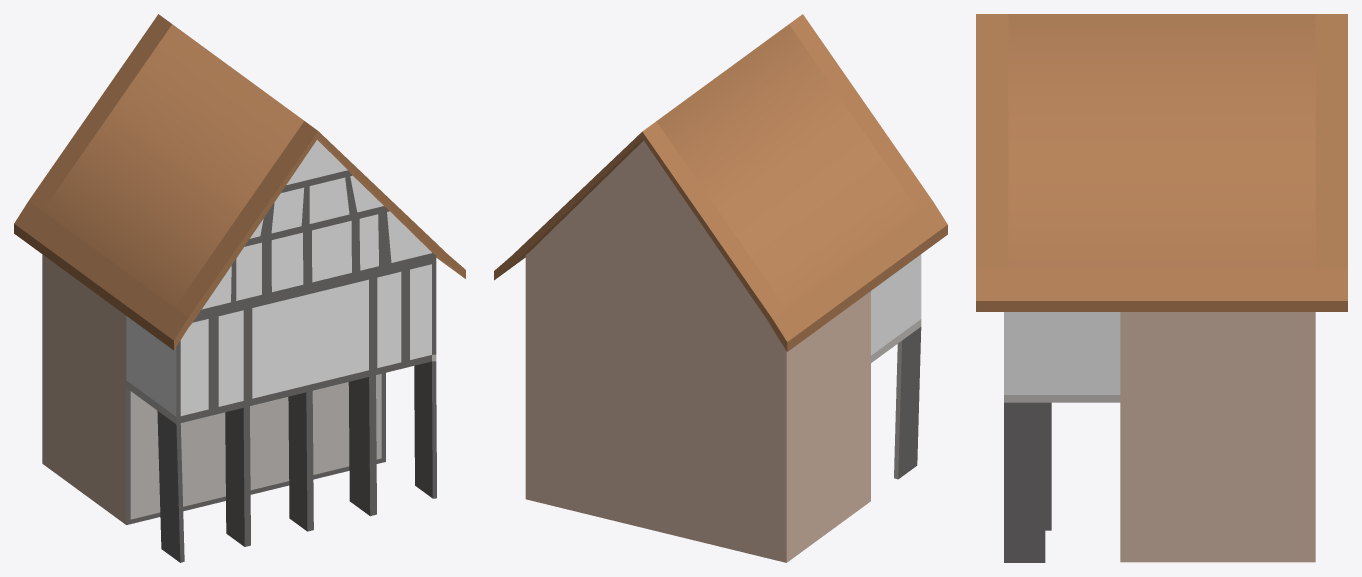
Rendered from house.FBX.
3 renders of one model, left to right at view 1: azimuth 30°, elevation 25°; view 2: azimuth 150°, elevation 25°; view 3: azimuth 270°, elevation 25°, orthographic. The views are drawn at different scales.
Visible parts, largest first — view 1: Box001; view 2: Box001; view 3: Box001.
Part boxes in pixels (x1,y1,x2,y2): Box001: [14, 14, 465, 562]; Box001: [494, 14, 947, 562]; Box001: [976, 14, 1347, 562].
Bounding box in the file's own units: 67.63 × 90.79 × 64.17.
Materials: 1 (1 with a texture image).
